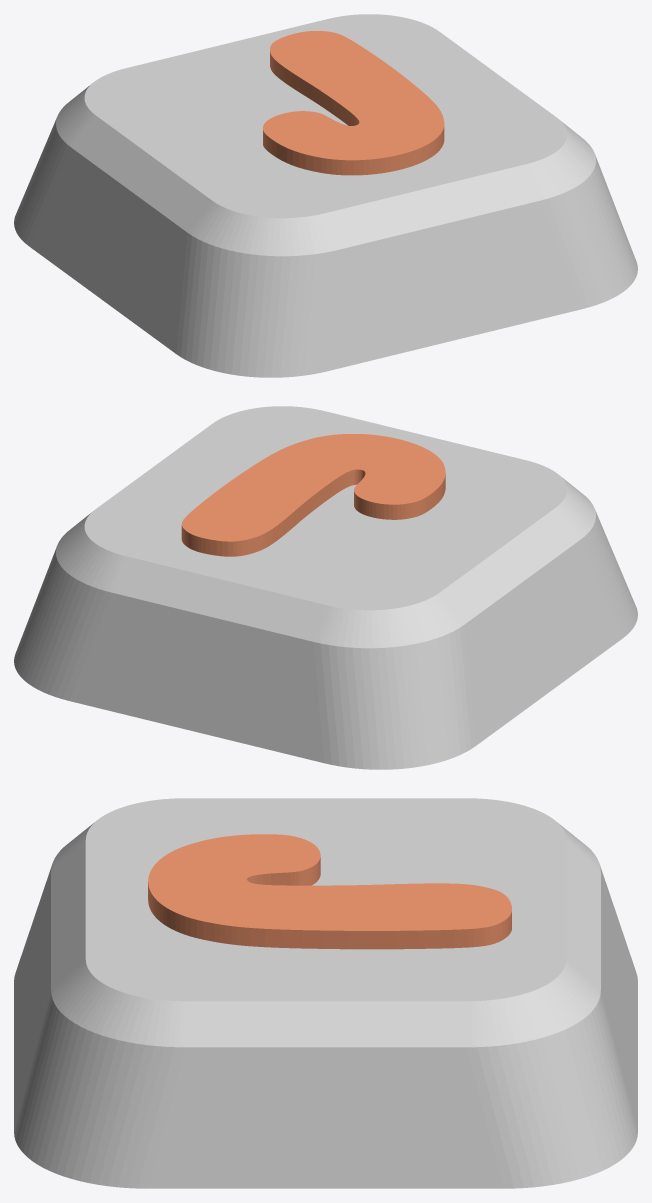
Rendered from cap-J.glb.
3 views of the same model, one above another, from view 1: azimuth 30°, elevation 25°; view 2: azimuth 150°, elevation 25°; view 3: azimuth 270°, elevation 25° (orthographic). The views are drawn at different scales.
Parts seen in each view (by area): view 1: cap_0, glyph_1; view 2: cap_0, glyph_1; view 3: cap_0, glyph_1.
Boxes of the visible parts, x1,y1,x2,y2 form: cap_0: (14, 14, 637, 377); glyph_1: (263, 31, 444, 175); cap_0: (14, 406, 637, 769); glyph_1: (181, 434, 445, 556); cap_0: (14, 798, 637, 1188); glyph_1: (148, 834, 511, 949).
Size of the model in its own units: 18 by 5.59 by 18.
